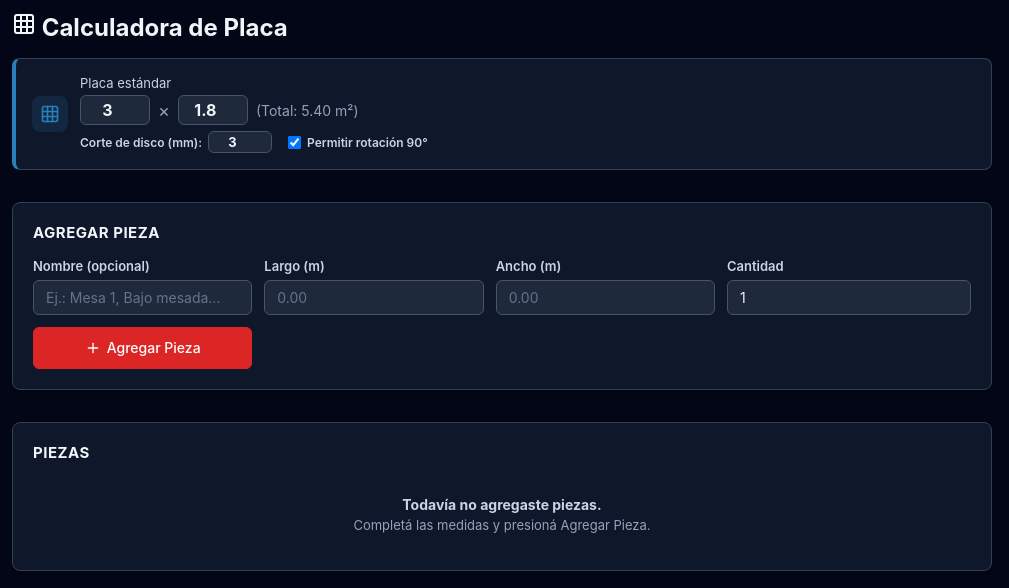
Test case: CalculatorPage — regresiones de funcionamiento › carga las dimensiones de placa y actualiza su superficie
expect the 2nd number field holds "1.8": met, box [178,95,248,125]
Replace the text in the 1st number field with "2" at coordinates (115, 110), box [80,95,150,125]
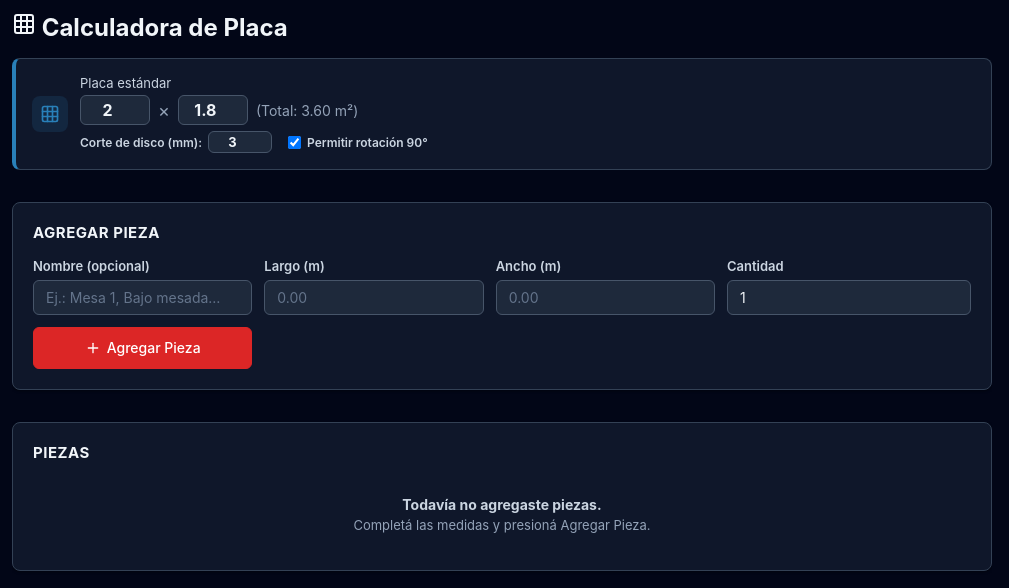
expect the text "(Total: 3.60 m²)" is shown: met, box [256,102,358,118]
